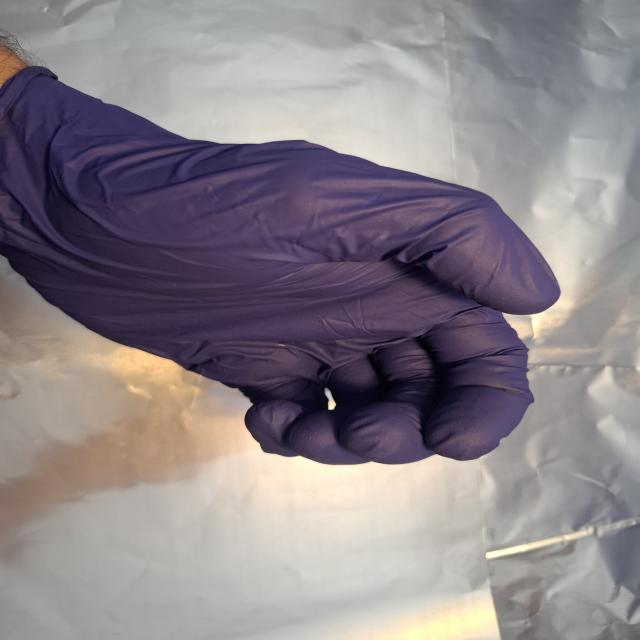glove_on: (0, 62, 566, 468)
